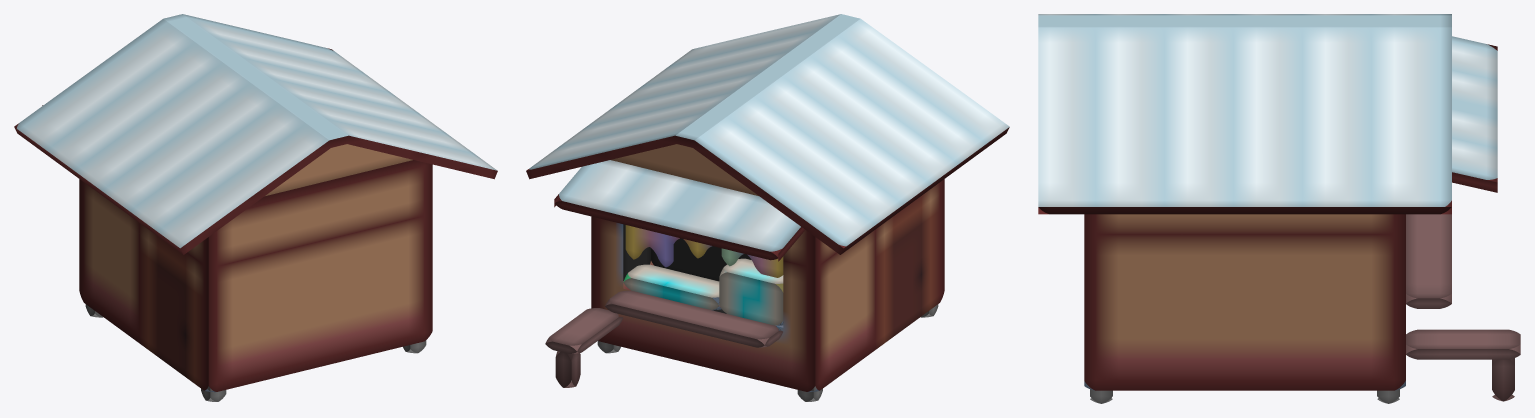
Rendered from Warung.fbx.
The picture shows the model from 3 angles, left to right: view 1: azimuth 30°, elevation 25°; view 2: azimuth 150°, elevation 25°; view 3: azimuth 270°, elevation 25°; orthographic projection. The views are drawn at different scales.
Parts seen in each view (by area): view 1: Atap, Bangunan; view 2: Atap, Bangunan, cube, cube_1, Etalase, Etalase2, KakiBangku, Gantungan, Bangku, Gantungan2; view 3: Atap, Bangunan, cube, cube_1, KakiBangku, Bangku.
Part boxes in pixels (bbox=[...]): Atap: bbox=[14, 14, 497, 254]; Bangunan: bbox=[79, 160, 432, 392]; Atap: bbox=[526, 14, 1009, 254]; Bangunan: bbox=[591, 179, 944, 392]; cube: bbox=[554, 160, 805, 261]; cube_1: bbox=[605, 290, 782, 347]; Etalase: bbox=[719, 258, 783, 325]; Etalase2: bbox=[623, 264, 721, 310]; KakiBangku: bbox=[545, 308, 623, 353]; Gantungan: bbox=[625, 225, 711, 267]; Bangku: bbox=[555, 351, 580, 387]; Gantungan2: bbox=[721, 248, 783, 277]; Atap: bbox=[1038, 14, 1451, 214]; Bangunan: bbox=[1084, 214, 1405, 390]; cube: bbox=[1452, 36, 1497, 192]; cube_1: bbox=[1406, 214, 1451, 308]; KakiBangku: bbox=[1406, 329, 1520, 359]; Bangku: bbox=[1492, 349, 1514, 401].
Size of the model in its own units: 993 by 761 by 1050.
1 material, 1 textured.
